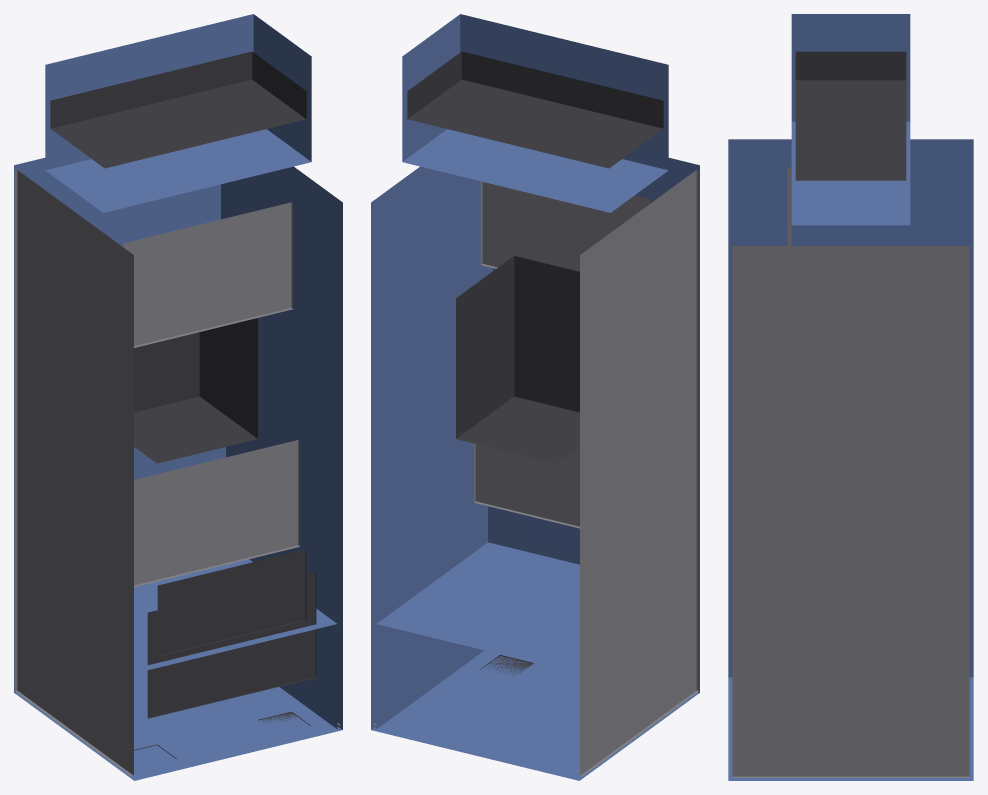
The model's file is cabinet.gltf.
3 renders of one model, left to right at view 1: azimuth 30°, elevation 25°; view 2: azimuth 150°, elevation 25°; view 3: azimuth 270°, elevation 25°, orthographic.
Visible parts, largest first — view 1: cabinet; view 2: cabinet; view 3: cabinet.
Boxes of the visible parts, x1,y1,x2,y2 form: cabinet: [14, 14, 342, 780]; cabinet: [371, 14, 699, 780]; cabinet: [728, 14, 973, 780].
Size of the model in its own units: 0.628 by 1.85 by 0.62.
